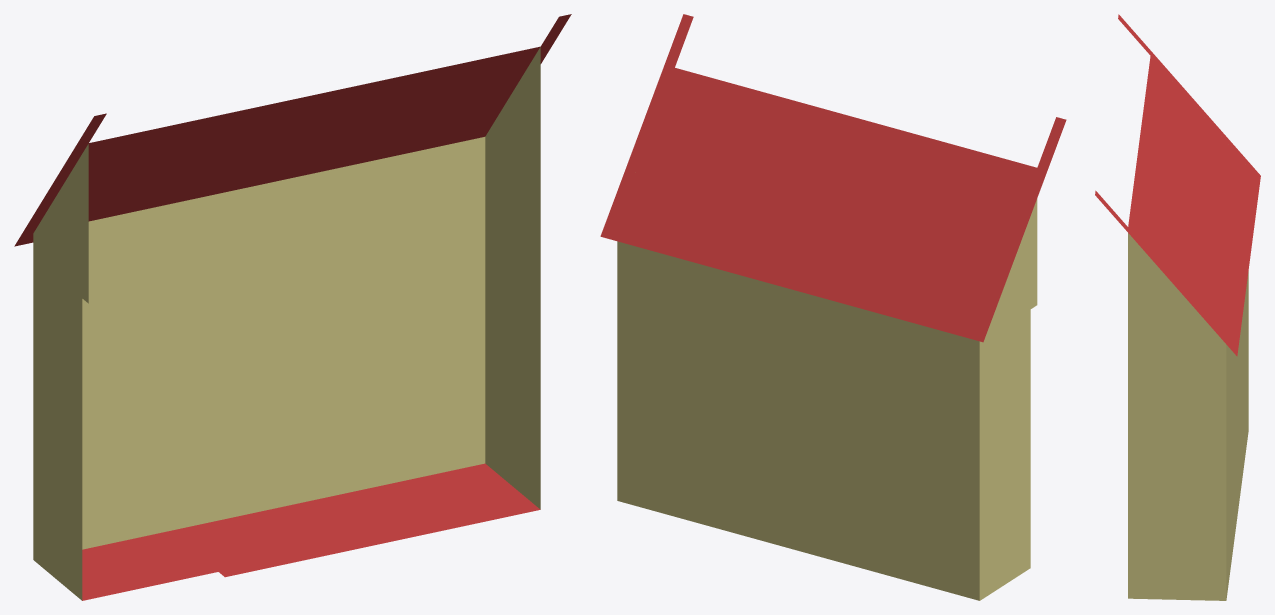
3 views of the same model, side by side, from view 1: azimuth 30°, elevation 25°; view 2: azimuth 150°, elevation 25°; view 3: azimuth 270°, elevation 25° (orthographic). The views are drawn at different scales.
Bounding box in the file's own units: 9.47 × 3.6 × 9.76.
